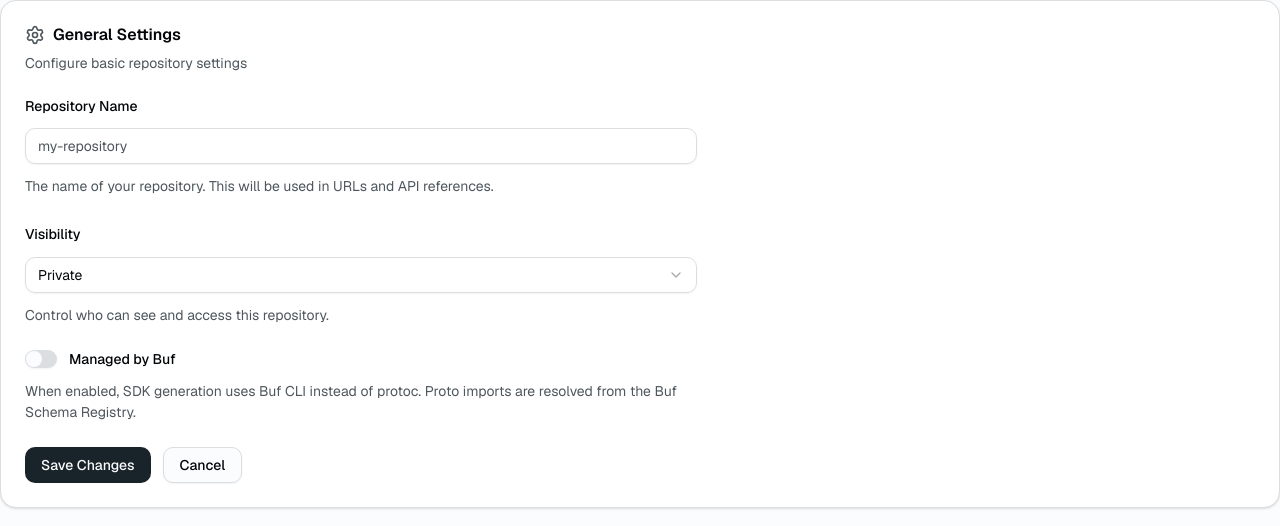
Scenario: RepositorySettingsForm › Form Reset › resets form to empty when no initial data provided
Type "test-repo" into the field labelled "Repository Name" at (361, 146), box [25,128,697,164]
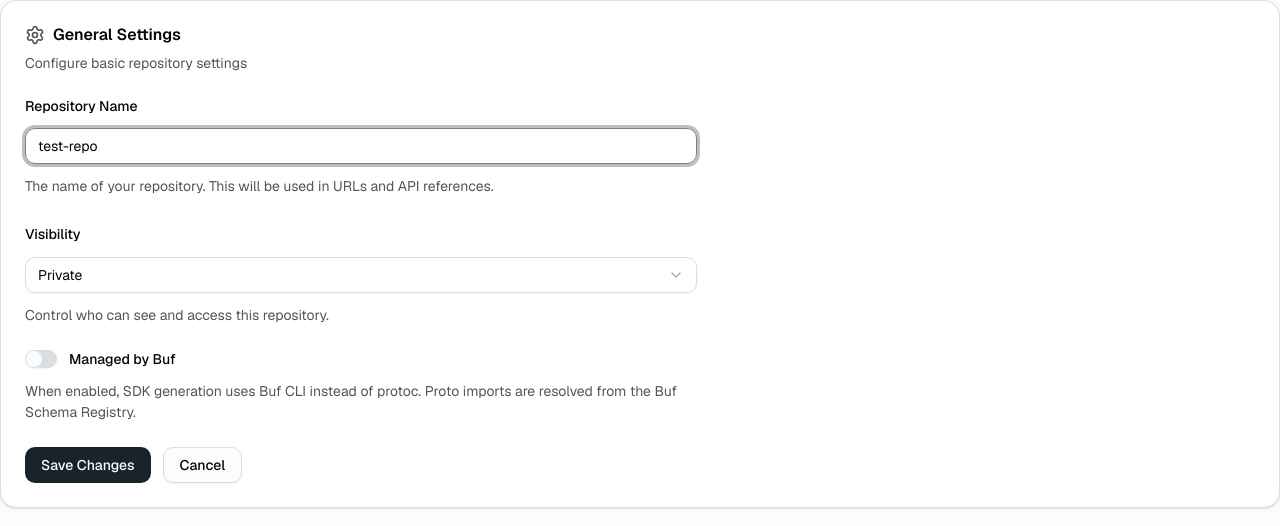
Click the button "Cancel" at (202, 465), box [163,447,242,483]
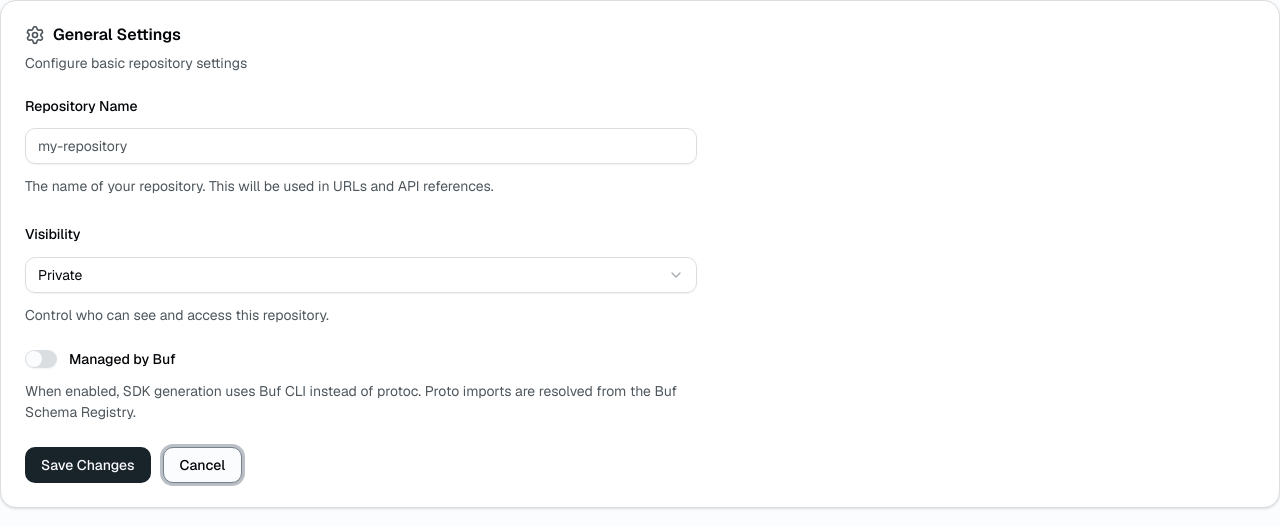
Check: the field labelled "Repository Name" is empty, box [25,128,697,164]
